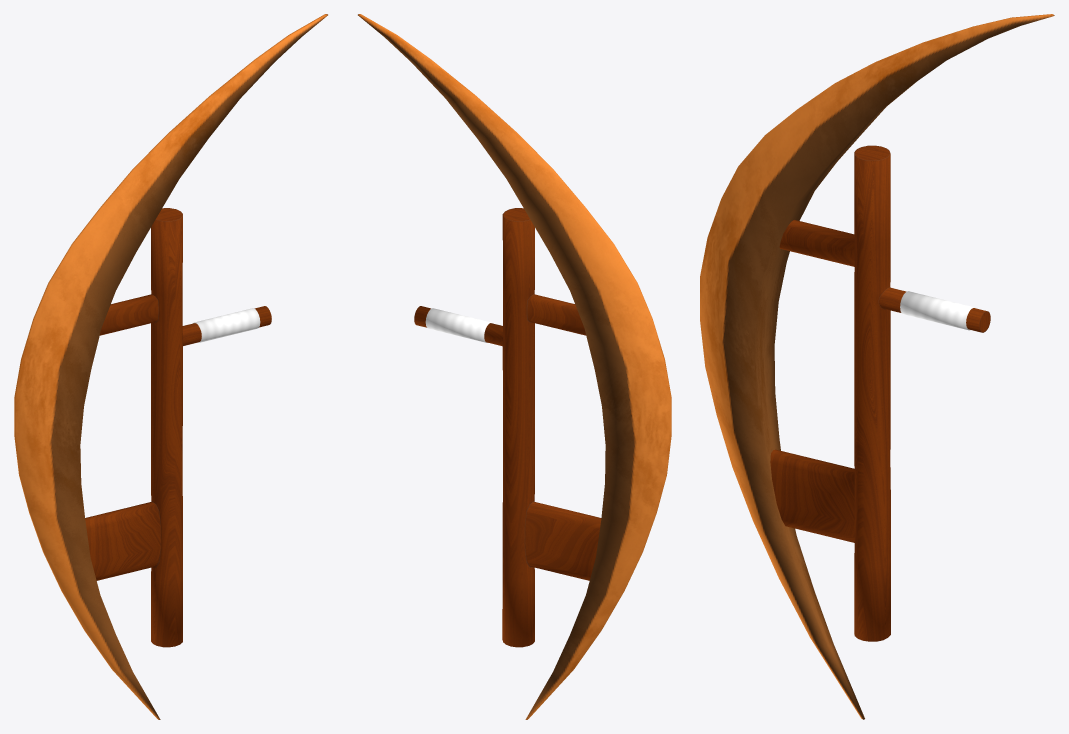
Rendered from Armblade.fbx.
3 views of the same model, side by side, from view 1: azimuth 30°, elevation 25°; view 2: azimuth 150°, elevation 25°; view 3: azimuth 330°, elevation 25° (orthographic). The views are drawn at different scales.
Parts seen in each view (by area): view 1: Blade, Handle, Grip; view 2: Blade, Handle, Grip; view 3: Blade, Handle, Grip.
Part boxes in pixels (x1,y1,x2,y2): Blade: [14, 14, 327, 719]; Handle: [85, 208, 271, 647]; Grip: [193, 308, 260, 342]; Blade: [358, 14, 671, 719]; Handle: [414, 208, 601, 647]; Grip: [425, 308, 492, 342]; Blade: [700, 14, 1054, 719]; Handle: [770, 145, 990, 641]; Grip: [900, 291, 975, 330].
Bounding box in the file's own units: 40.69 × 82.57 × 5.02.
